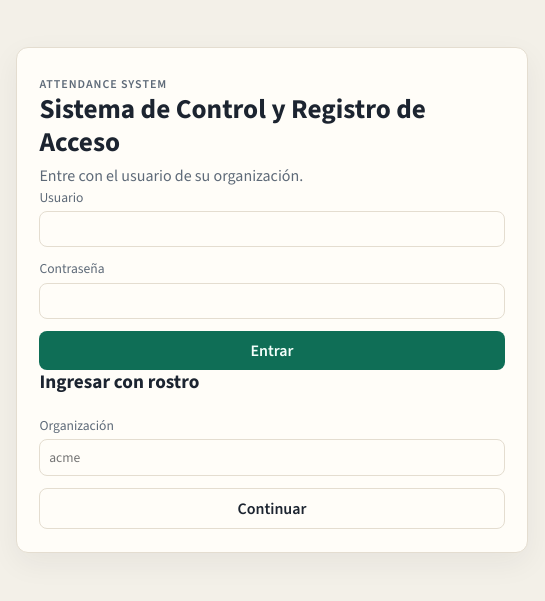
Test: informa cuando las credenciales no sirven
In the field labelled "Usuario": coordinates (272, 229) x1=39 y1=211 x2=505 y2=247, type "acme.operator"
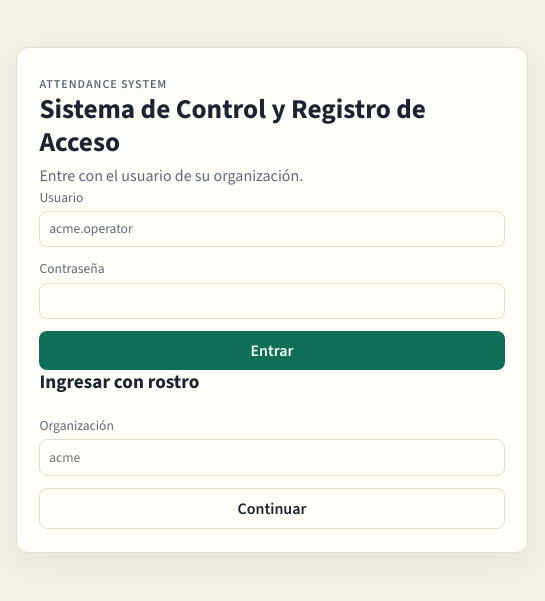
In the password field labelled "Contraseña": coordinates (272, 301) x1=39 y1=283 x2=505 y2=319, type "mala"
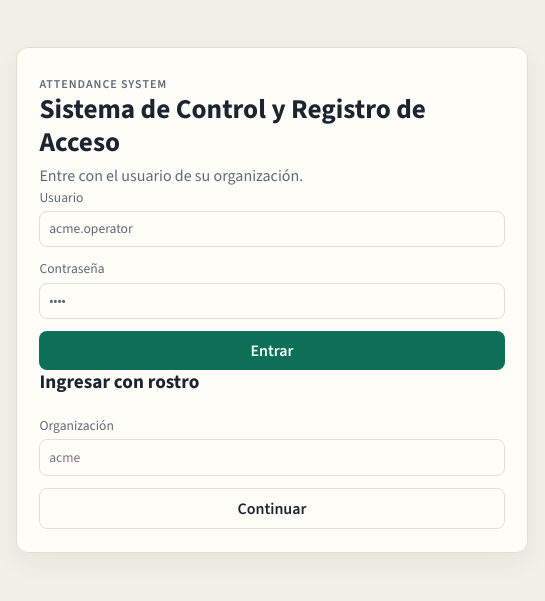
Click the button "Entrar": coordinates (272, 351) x1=39 y1=331 x2=505 y2=370
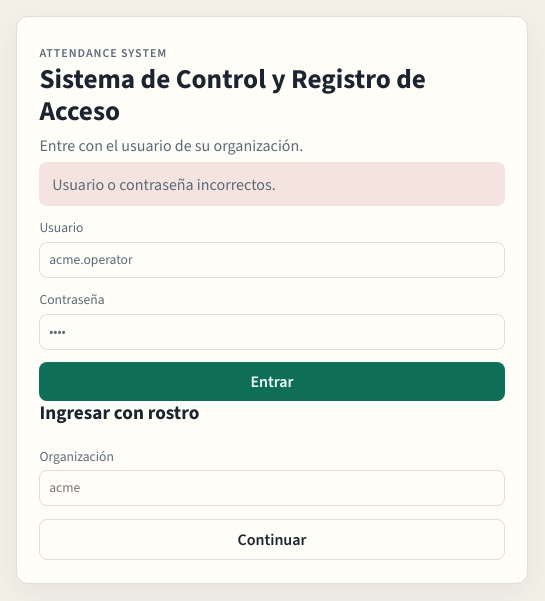
Check: the message reads "Usuario o contraseña incorrectos.", box x1=52 y1=174 x2=276 y2=195
